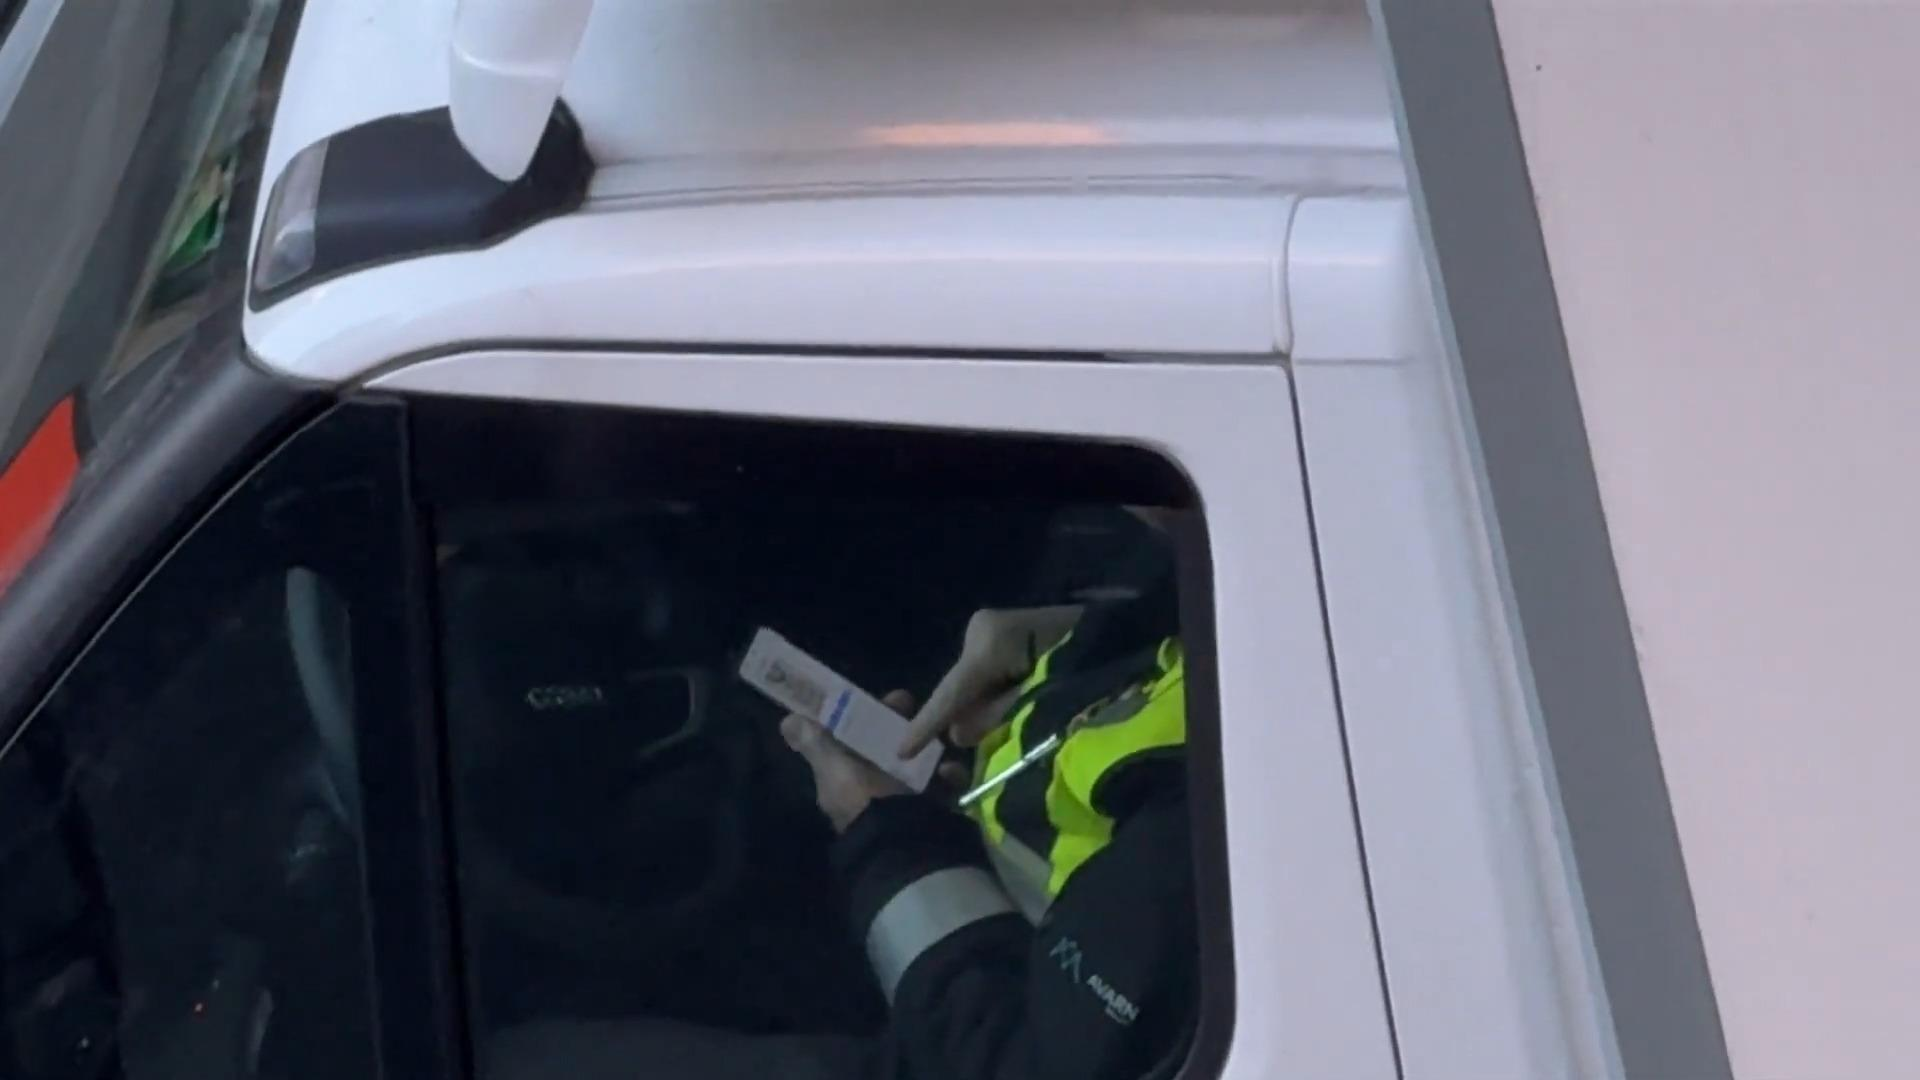parking-attendant: (487, 559, 1197, 1079)
